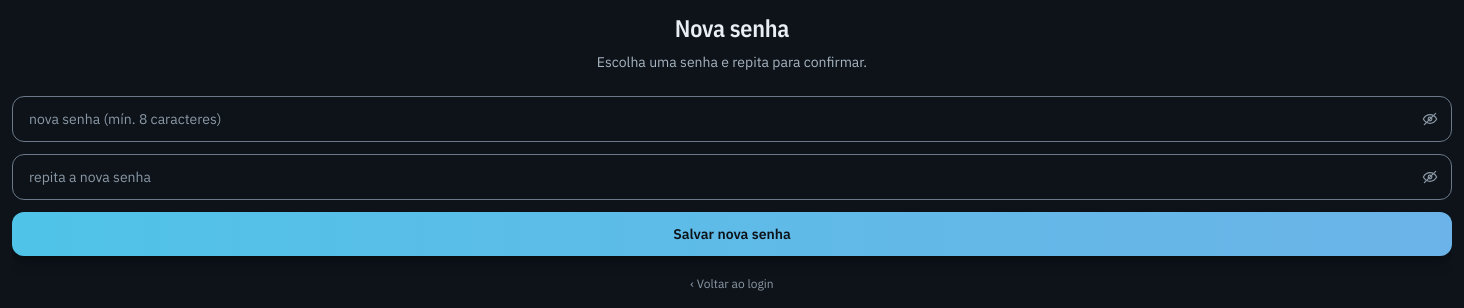
Test: RecuperarSenha — definir a nova senha › token expirado mostra o convite a pedir outro link
The image size is (1464, 308).
Type "senhaboa123" into the password field with placeholder "nova senha (mín. 8 caracteres)" at coordinates (732, 119), box [12,96,1452,142]
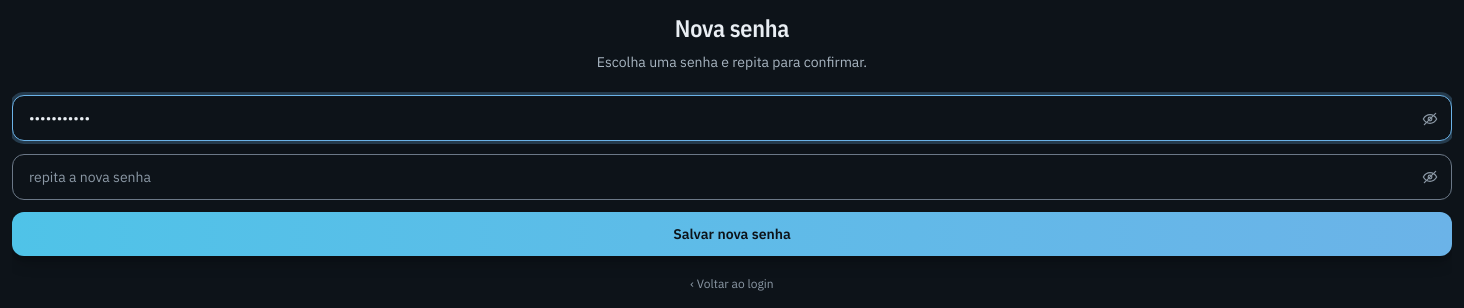
Type "senhaboa123" into the password field with placeholder "repita a nova senha" at coordinates (732, 177), box [12,154,1452,200]
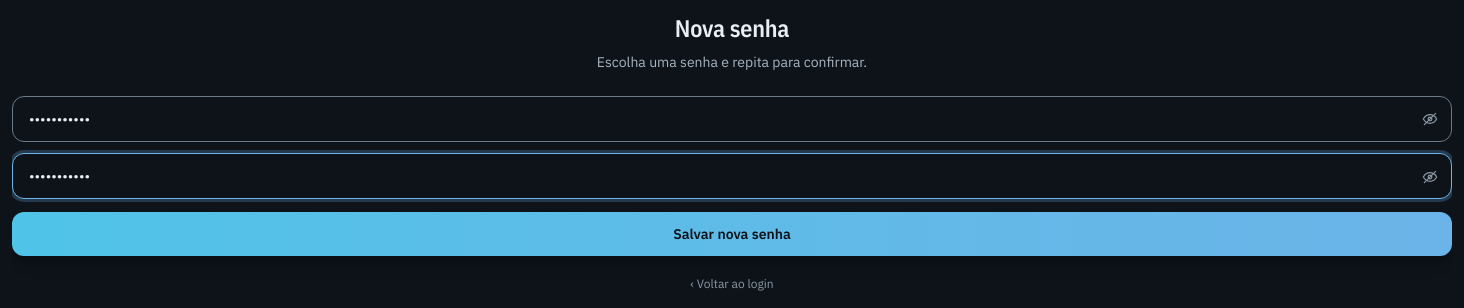
Click the button "Salvar nova senha" at coordinates (732, 234), box [12,212,1452,256]
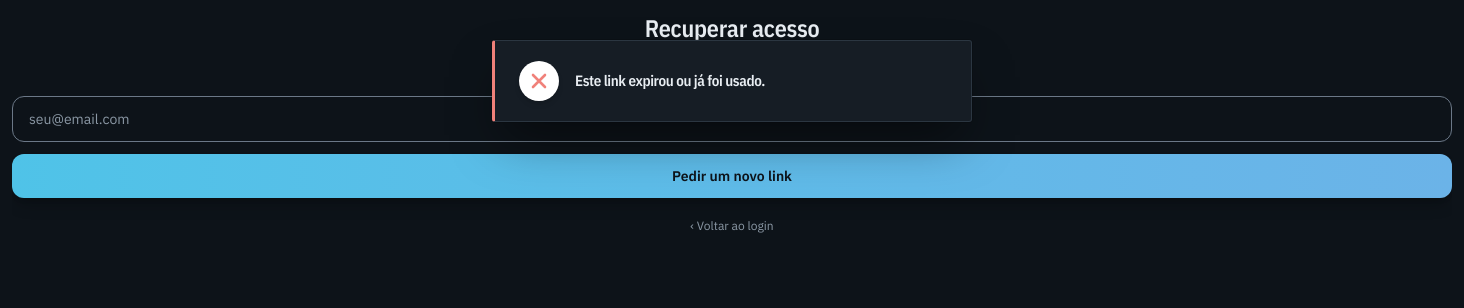
Now the text "Este link expirou ou já foi usado." is shown, box [575,71,765,91]
Now the button "Pedir um novo link" is shown, box [12,154,1452,198]
